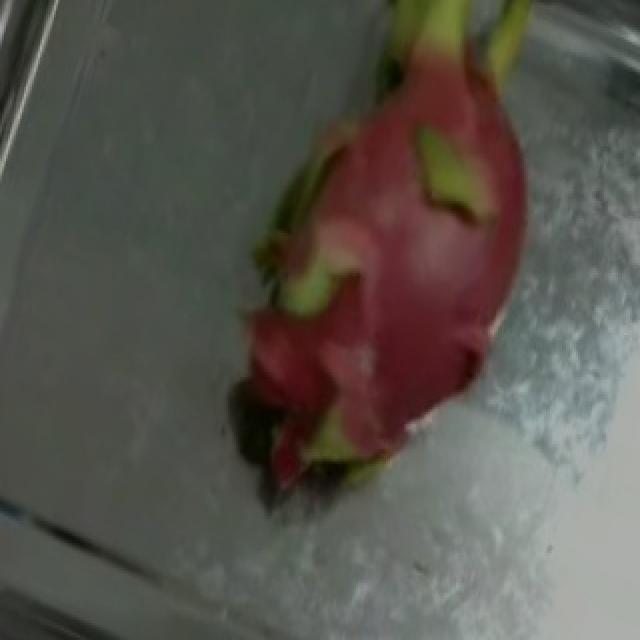fruit: (174, 3, 614, 424)
